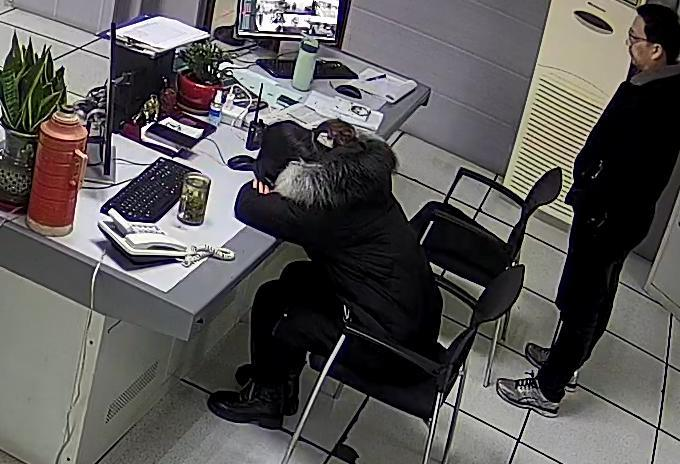sleep: (223, 107, 425, 259)
